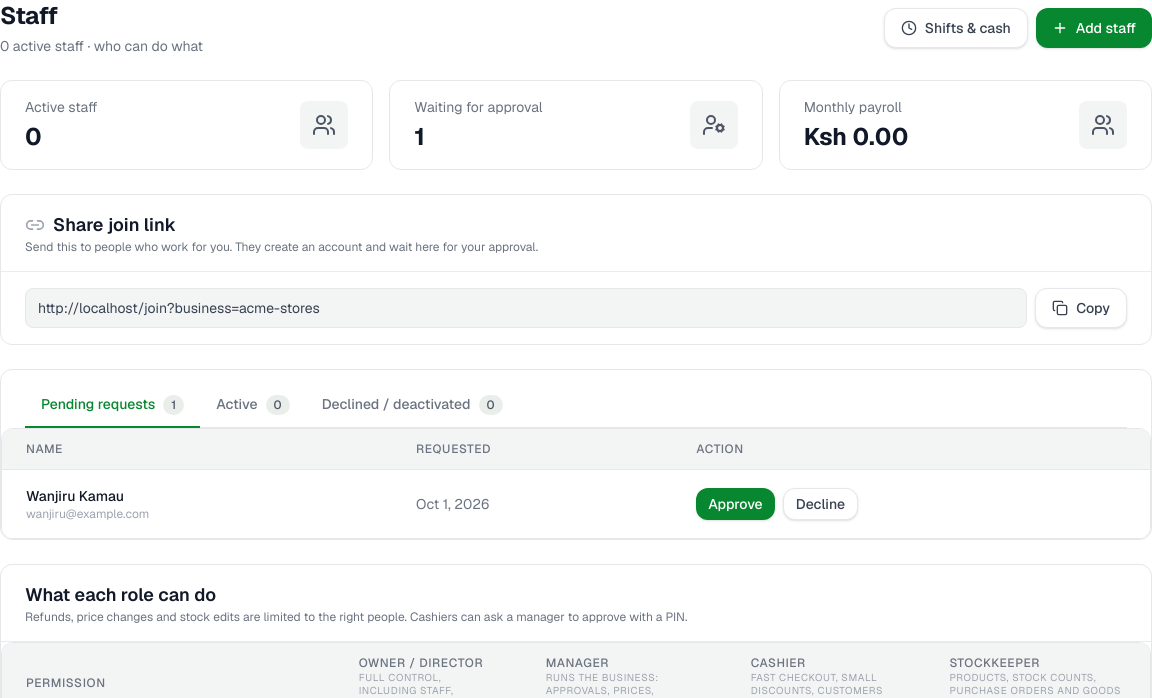
Test: staff page: access requests › lists pending requests and approves with the chosen role, branch and salary
Check: the text "wanjiru@example.com" is shown, box [26,506,149,522]
Click the button "Approve": click(735, 504) [696,488,775,520]
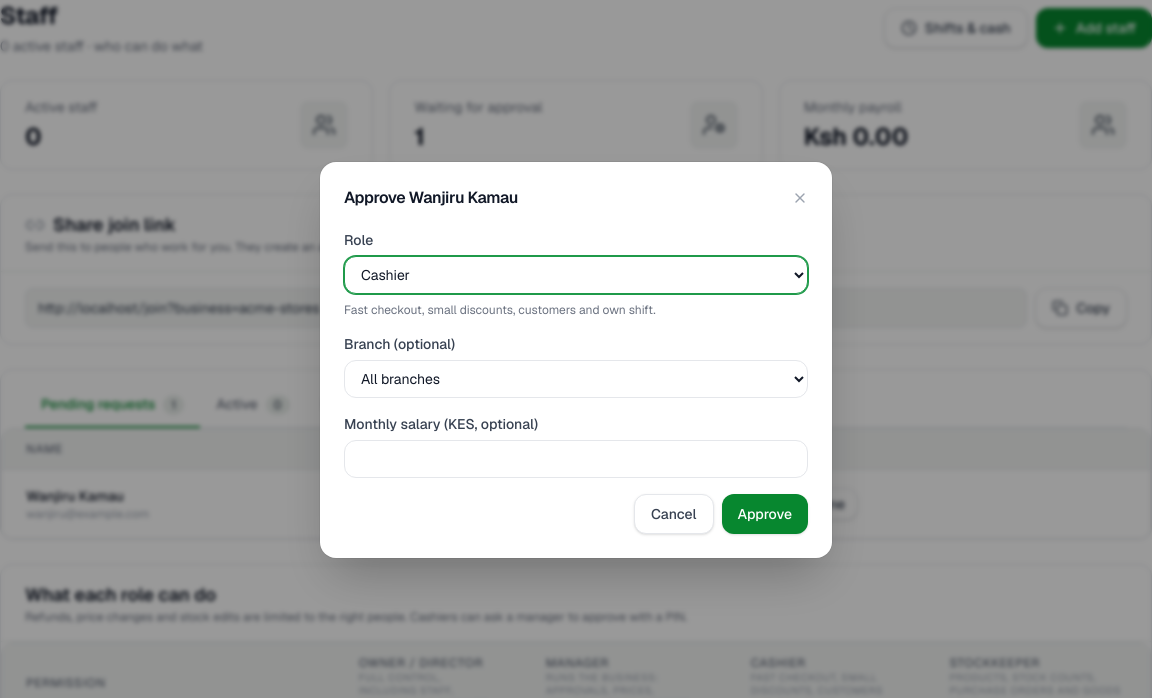
Select "Manager" in the dropdown labelled "Role": (576, 275) [344,256,808,294]
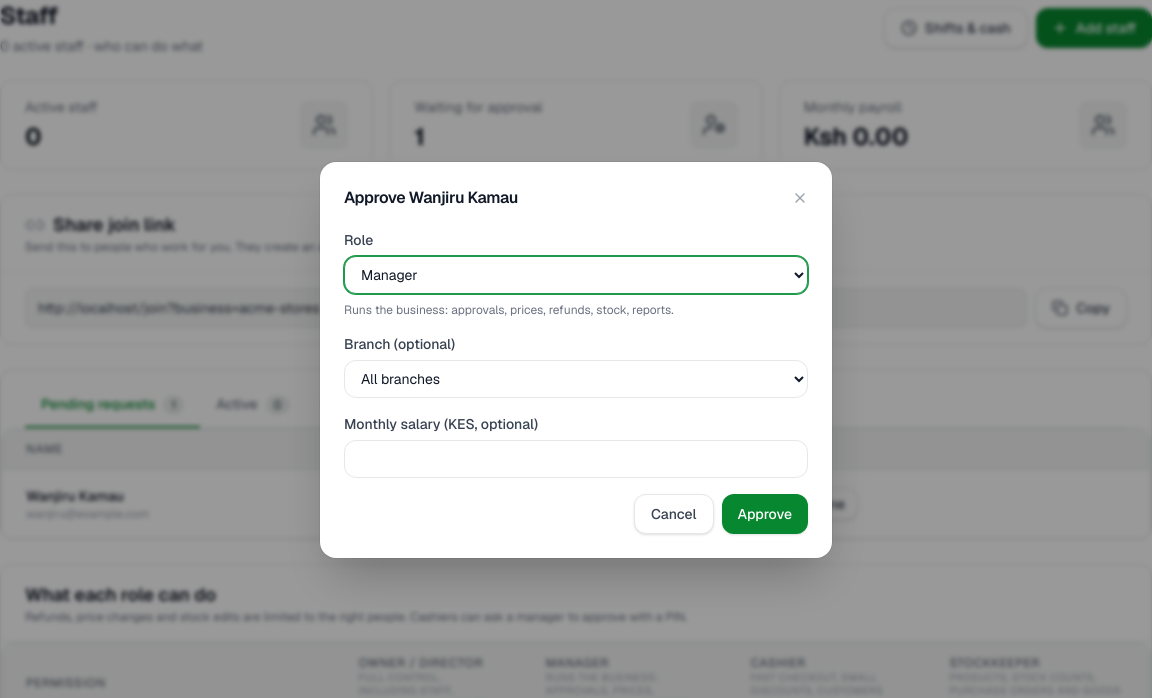
Select "Westlands" in the dropdown labelled "Branch (optional)": (576, 379) [344,360,808,398]
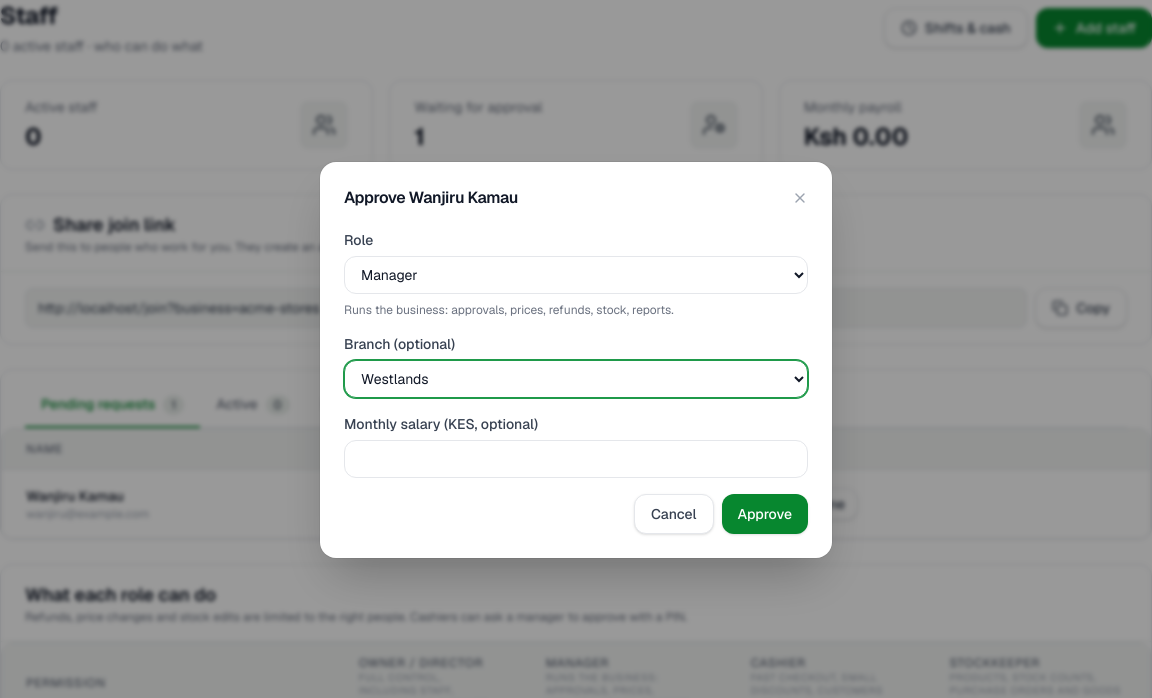
In the number field labelled "Monthly salary (KES, optional)": (576, 459) [344,440,808,478], type "45000"
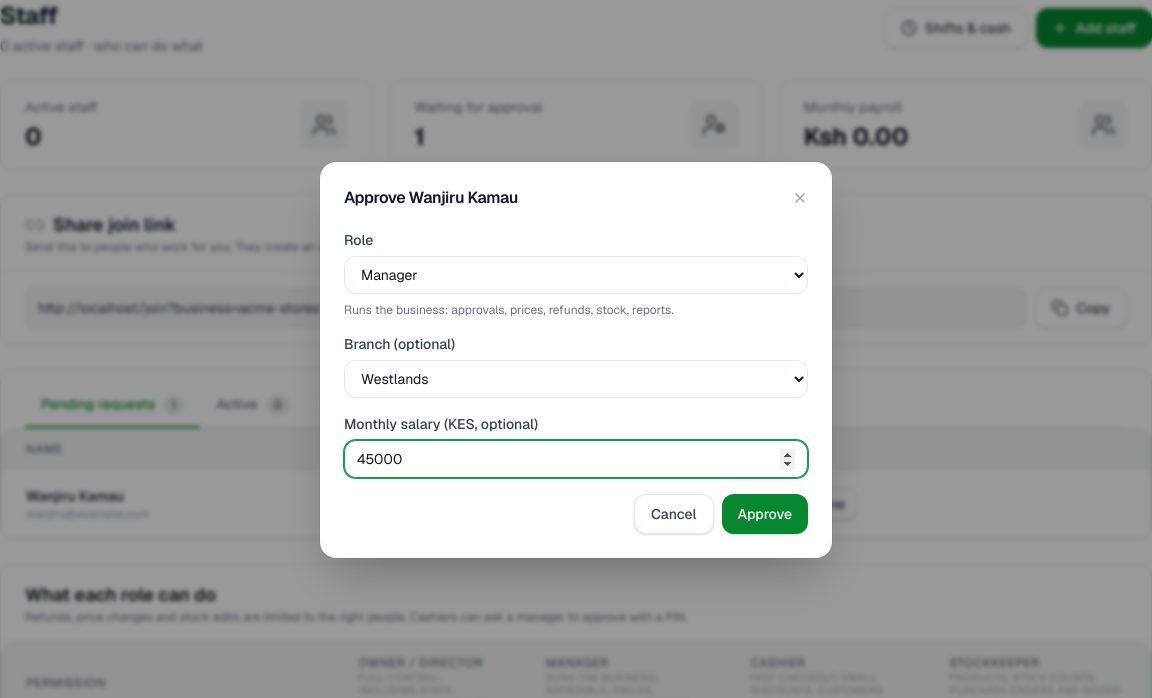
Click the button "Approve": click(765, 514) [722,494,808,534]
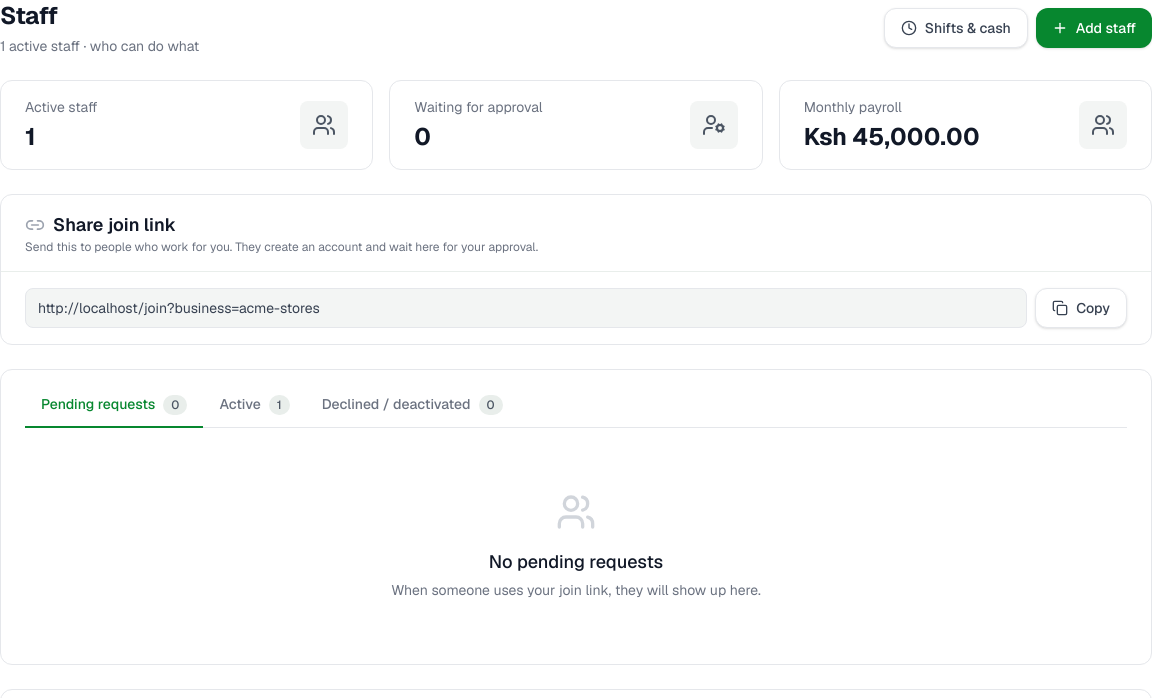
Check: the text "Wanjiru Kamau" is gone
